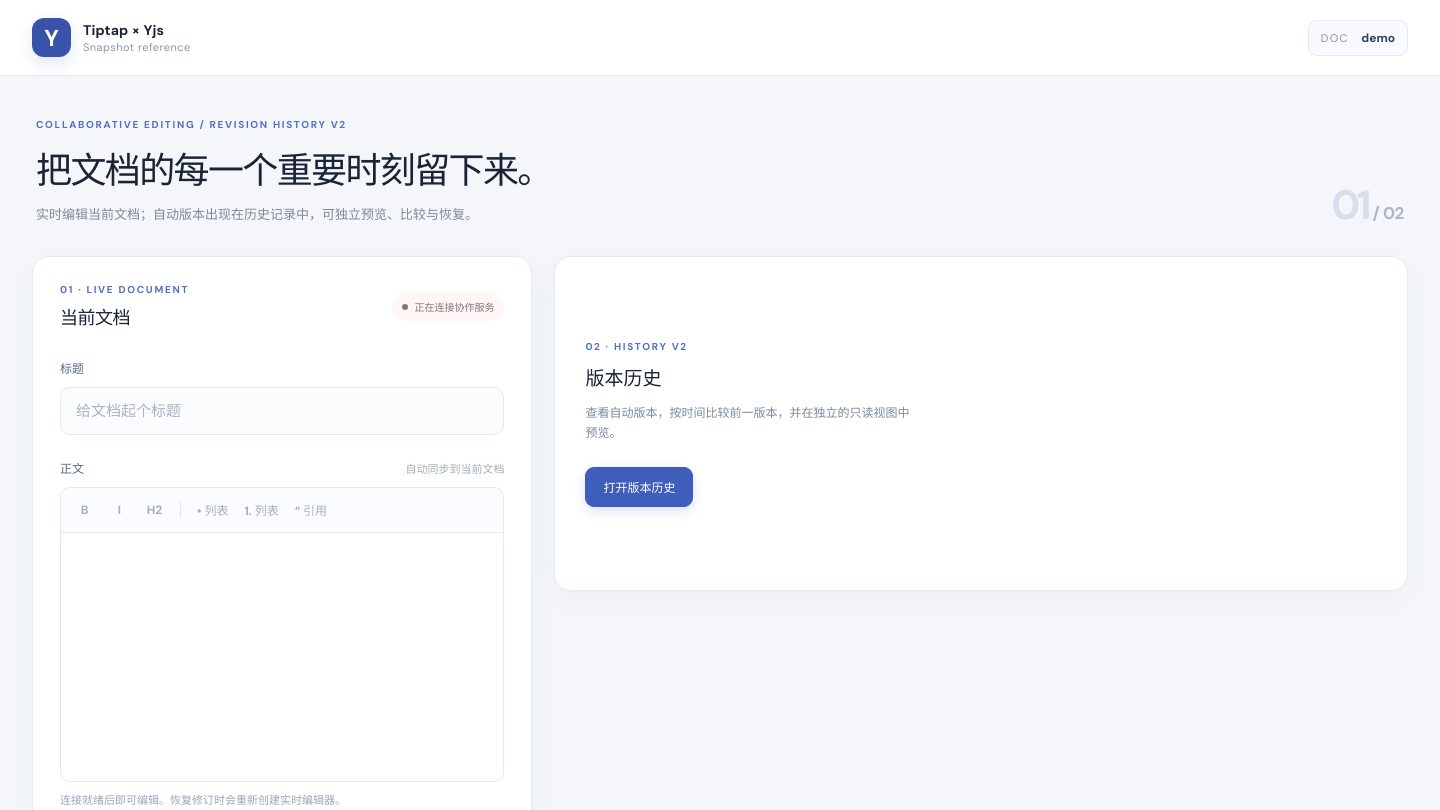
snapshot UI › refreshes the list when history opens so newly automatic revisions are found
This screenshot has width=1440, height=810.
Click the button "打开版本历史": (639, 488) [585,468,693,508]
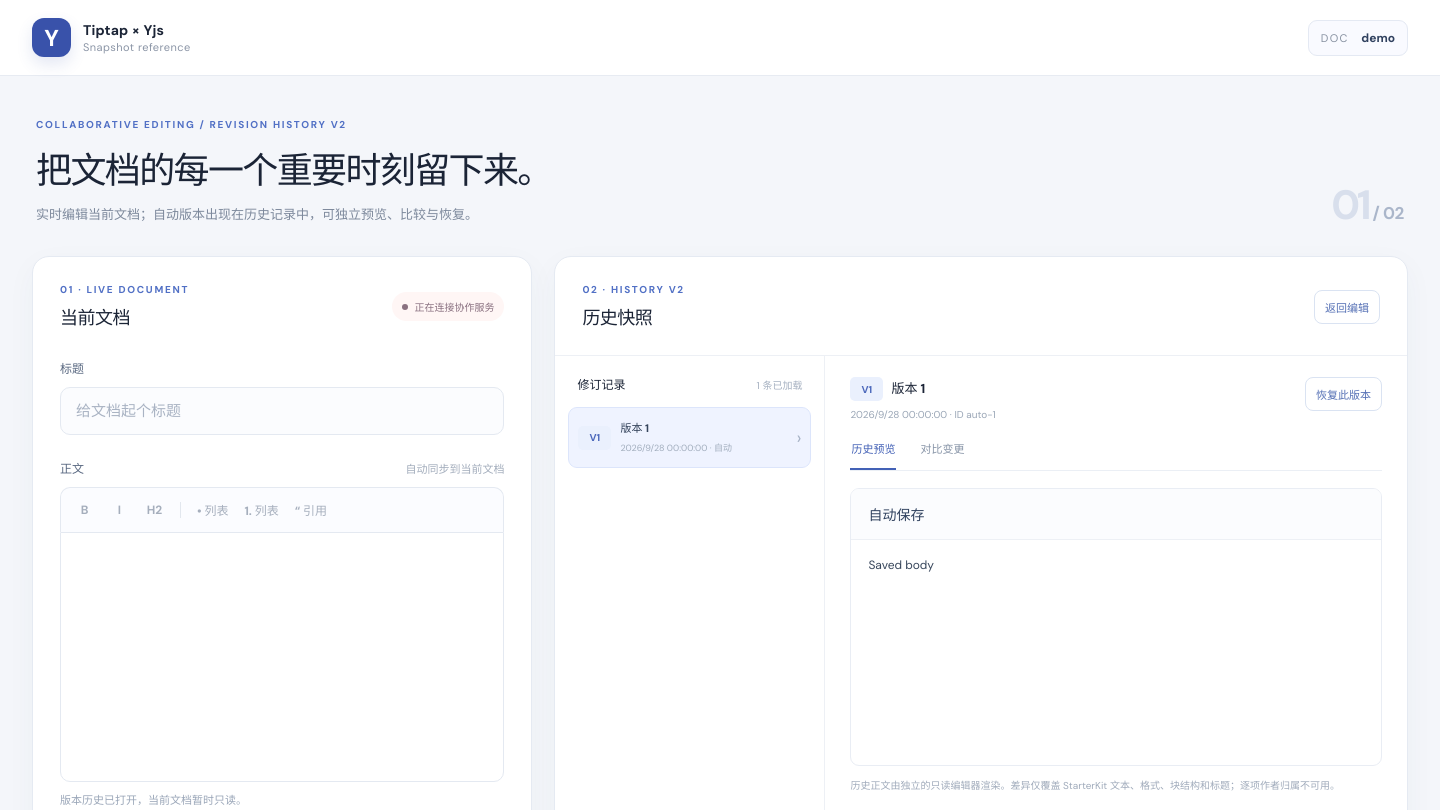
Check: the text "自动保存" is shown, box [851,489,1381,540]
